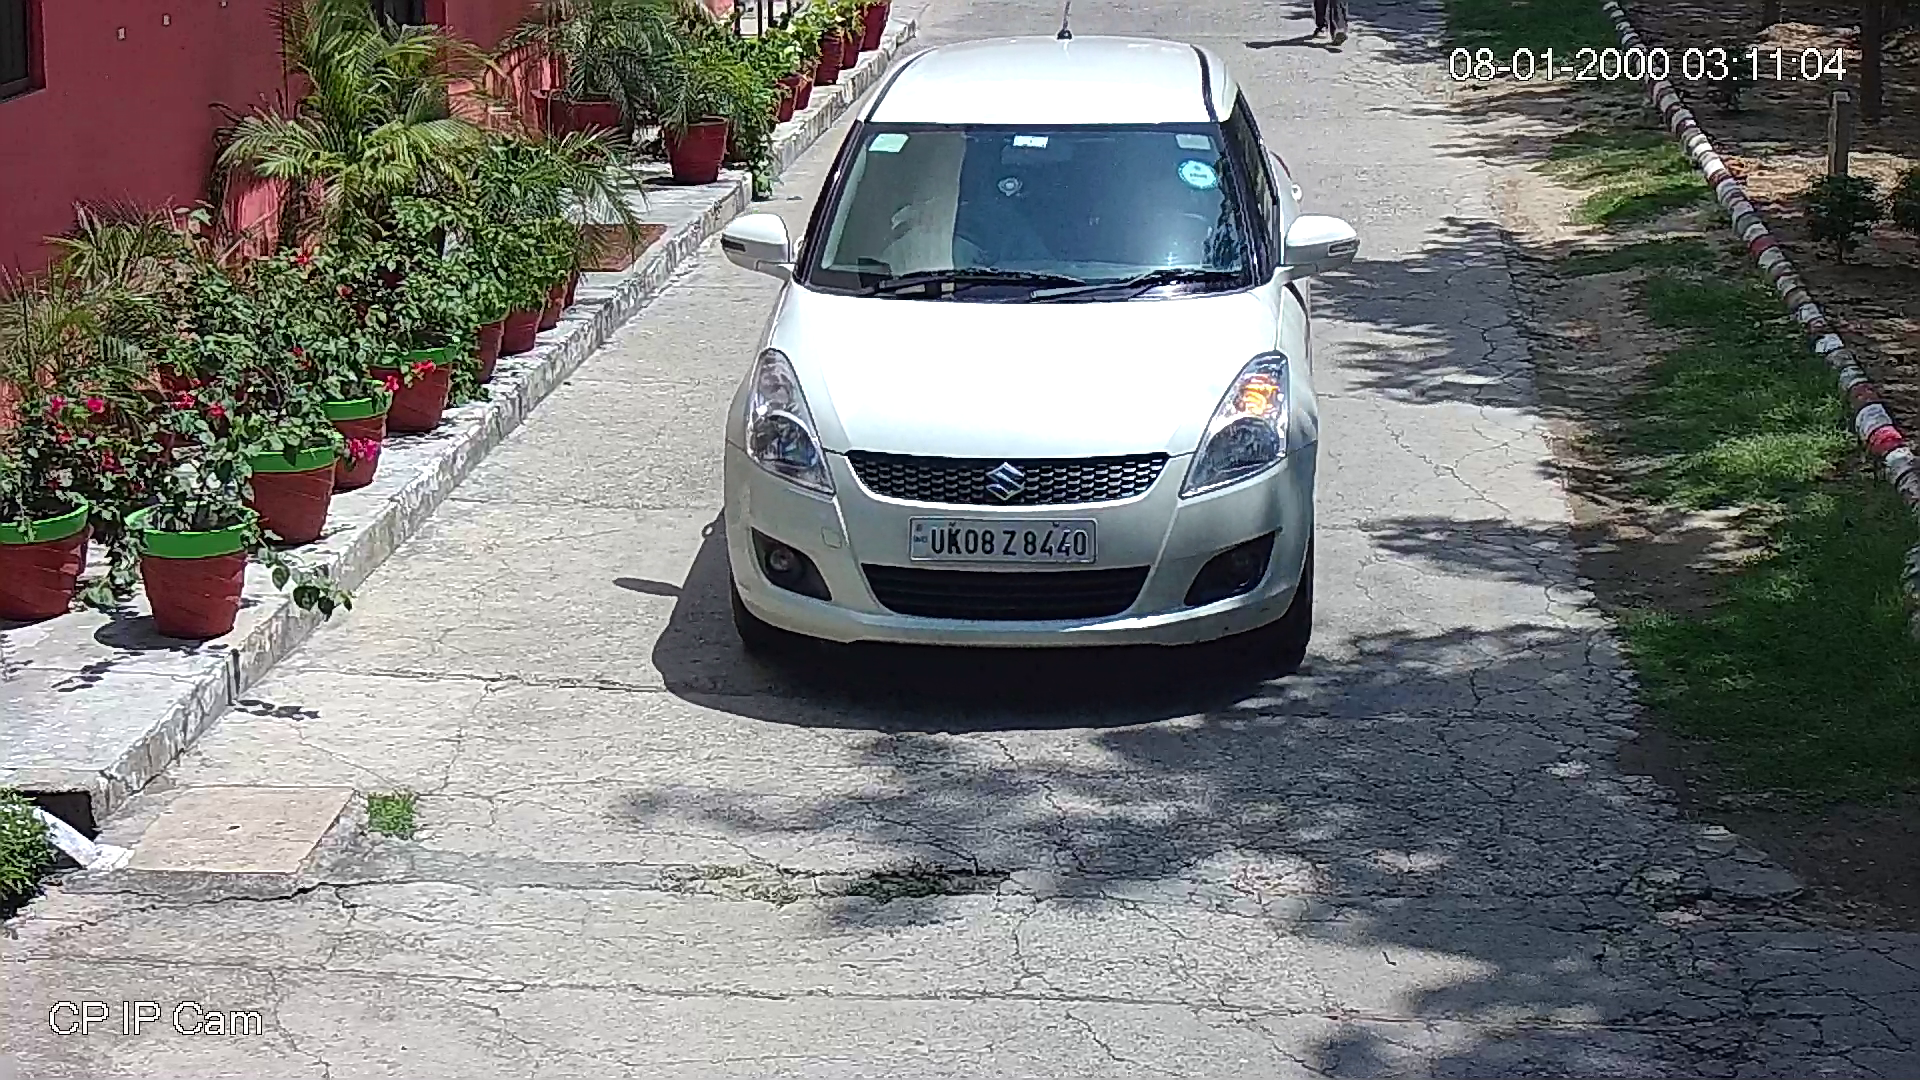plate: (901, 511, 1103, 572)
